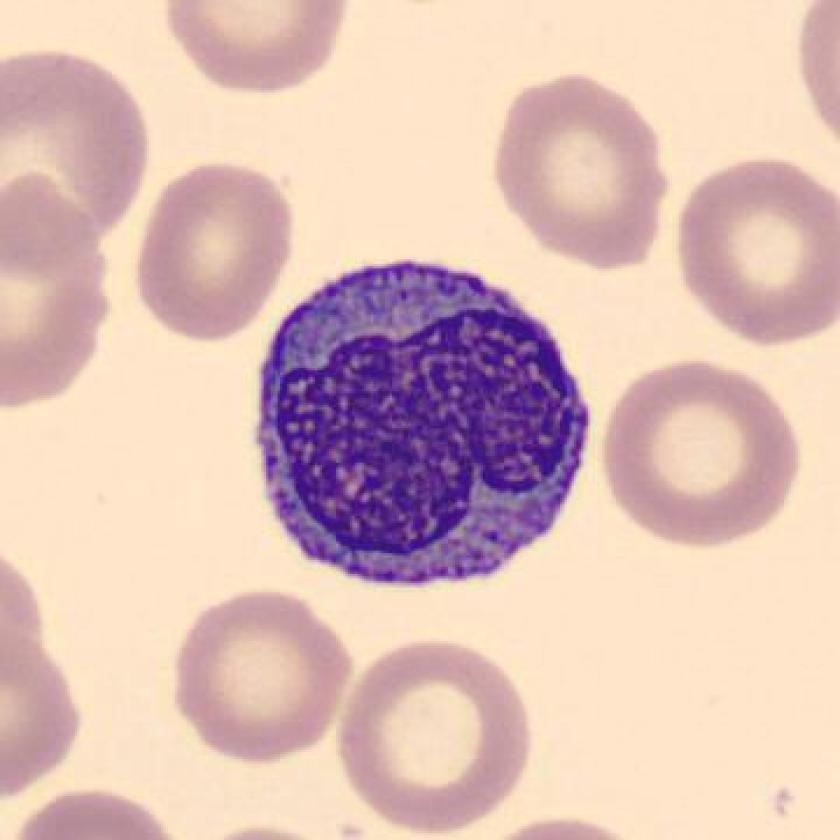monocyte: (239, 239, 603, 605)
